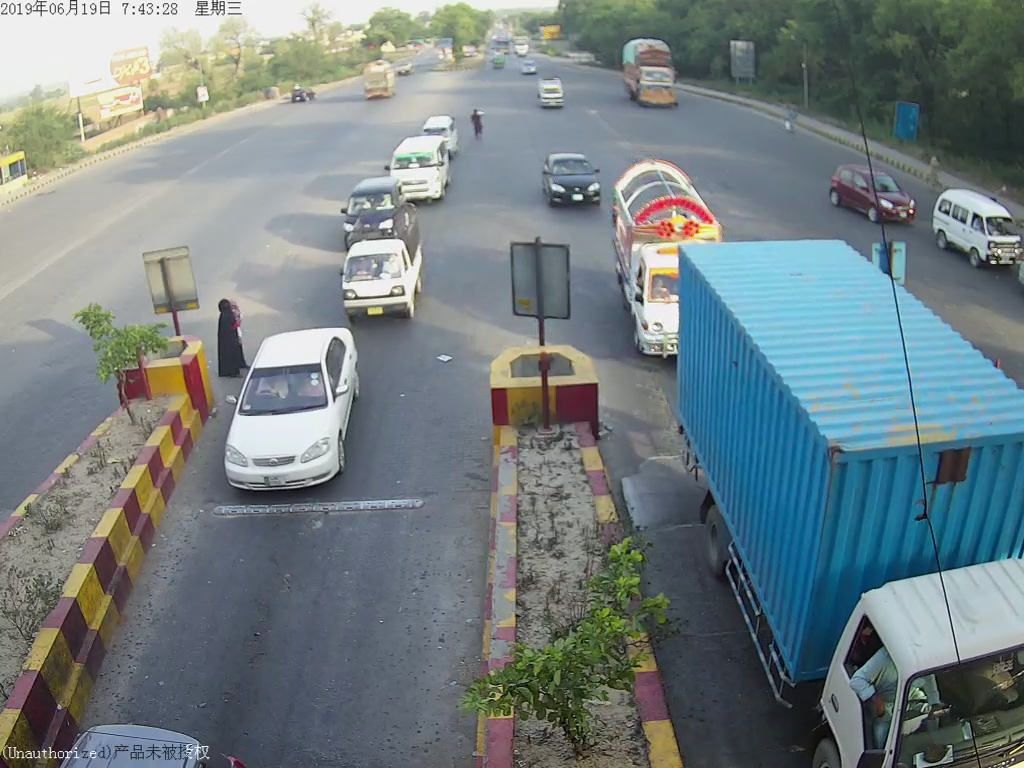Cat-1: (224, 331, 363, 492), (339, 212, 428, 312), (538, 154, 604, 208)
Cat-2: (609, 161, 678, 356)
